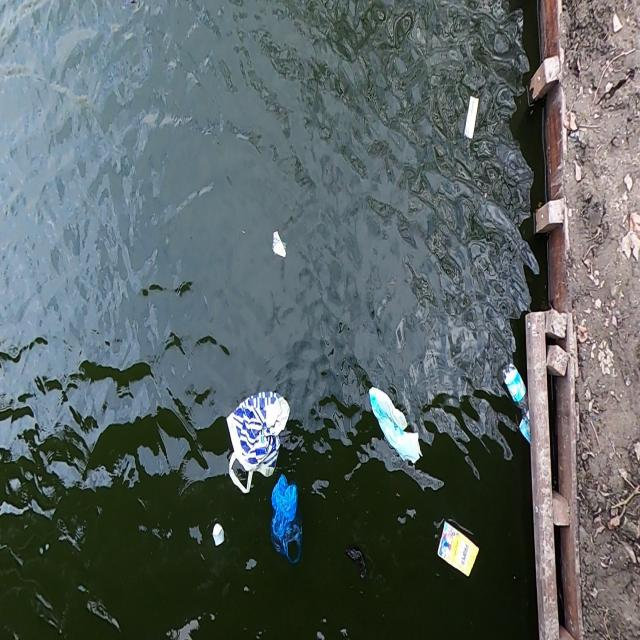Autre plastique: (436, 520, 482, 582)
Non plastique: (463, 83, 482, 153)
Sac plastique: (222, 382, 293, 501), (364, 382, 424, 467), (265, 466, 309, 581)
